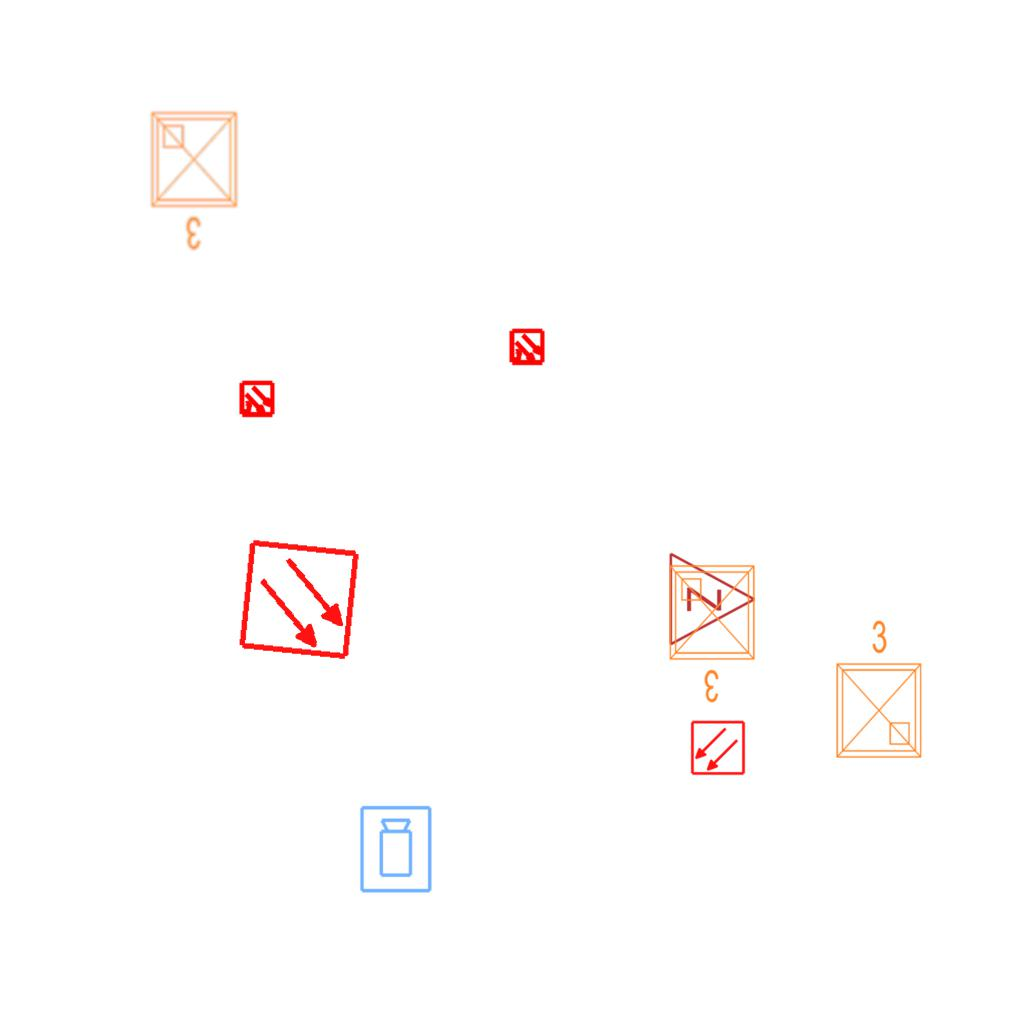Einbaudownlights_LED_Konferenzraeume: (144, 105, 248, 255), (825, 615, 929, 765), (662, 558, 766, 708)
KFO_Kamera_mit_Festobjektiv: (358, 804, 435, 895)
OT_Multisensormelder_(Kombination_RMO_WMD): (229, 372, 285, 428), (499, 320, 555, 376)
RMO_Rauchmelder_optischer: (237, 537, 362, 662), (690, 720, 746, 776)
Zimmersignalleuchte: (662, 549, 762, 647)
